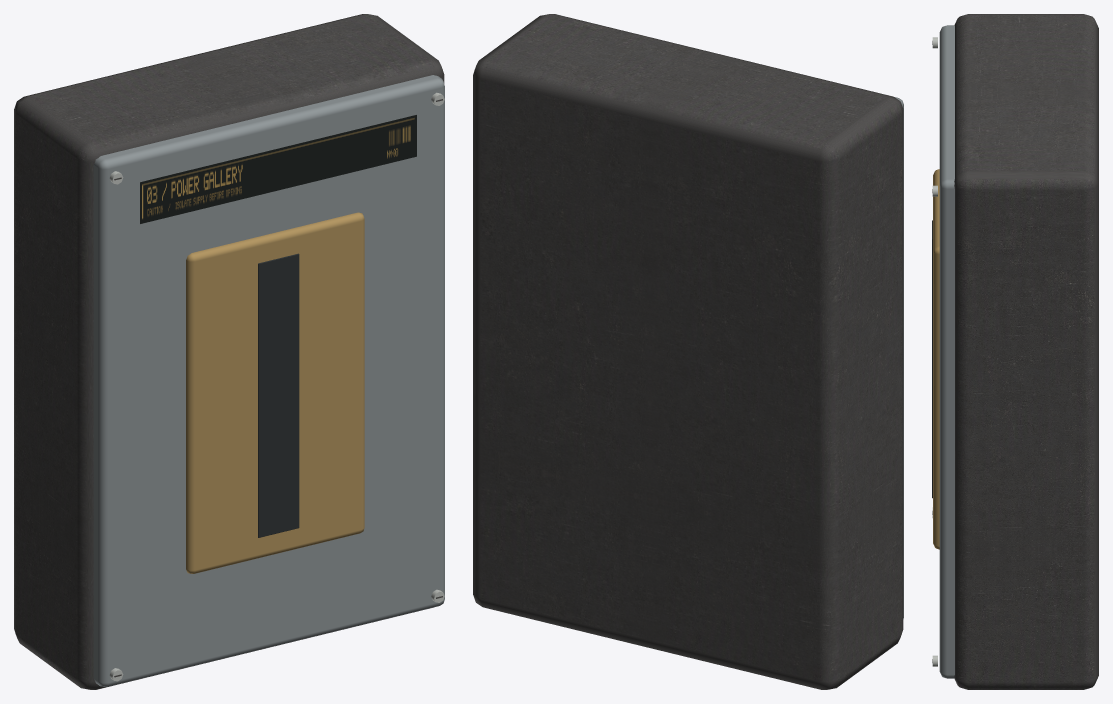
File: bus-isolator.glb
3 renders of one model, left to right at view 1: azimuth 30°, elevation 25°; view 2: azimuth 150°, elevation 25°; view 3: azimuth 270°, elevation 25°, orthographic. The views are drawn at different scales.
Visible parts, largest first — view 1: wall-housing; view 2: wall-housing; view 3: wall-housing.
Boxes of the visible parts, x1,y1,x2,y2 form: wall-housing: (14,14,444,689); wall-housing: (473,14,903,689); wall-housing: (932,14,1098,689).
Size of the model in its own units: 0.74 by 1.06 by 0.309.
6 materials, 2 textured.
